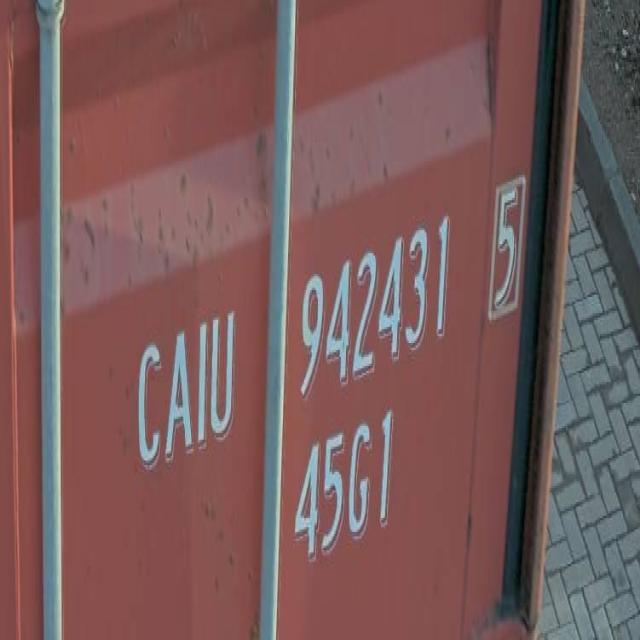dv: (486, 170, 525, 335)
owner: (129, 297, 239, 476)
serial: (294, 207, 453, 395)
size: (289, 406, 400, 573)
